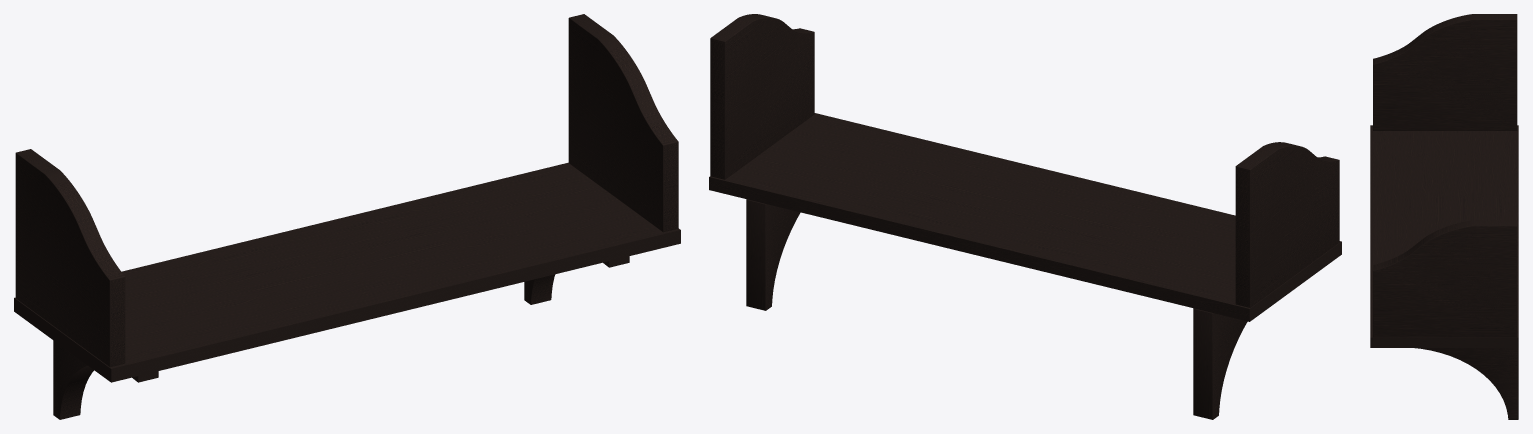
The model's file is wooden_wall_shelf.glb.
3 renders of one model, left to right at view 1: azimuth 30°, elevation 25°; view 2: azimuth 150°, elevation 25°; view 3: azimuth 270°, elevation 25°, orthographic. The views are drawn at different scales.
Visible parts, largest first — view 1: Cubo.002; view 2: Cubo.002; view 3: Cubo.002.
Part boxes in pixels (<box>): Cubo.002: <box>14,14,680,419</box>; Cubo.002: <box>709,14,1341,419</box>; Cubo.002: <box>1370,14,1518,419</box>.
Bounding box in the file's own units: 8.18 × 3.74 × 2.42.
2 materials, 1 textured.
